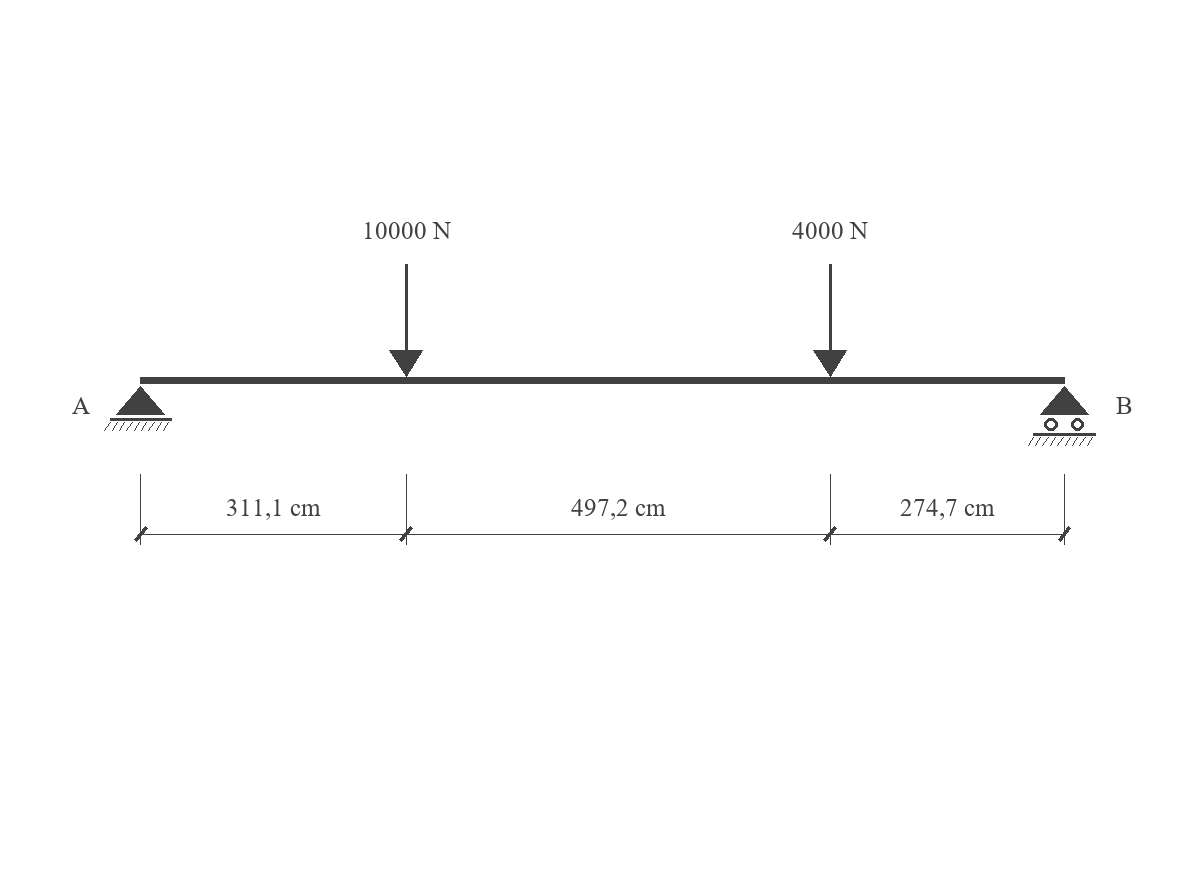pin_support: (104, 386, 172, 431)
point_load: (389, 264, 423, 377), (813, 264, 847, 377)
roller_support: (1028, 386, 1096, 446)
